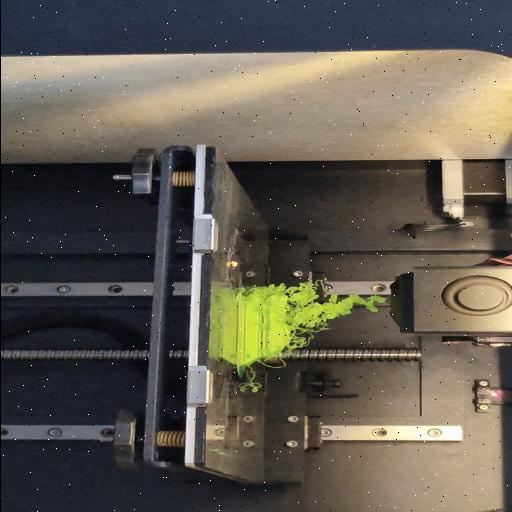spaghetti: (281, 280, 386, 356), (244, 366, 262, 394), (238, 284, 280, 294), (257, 358, 289, 370)
